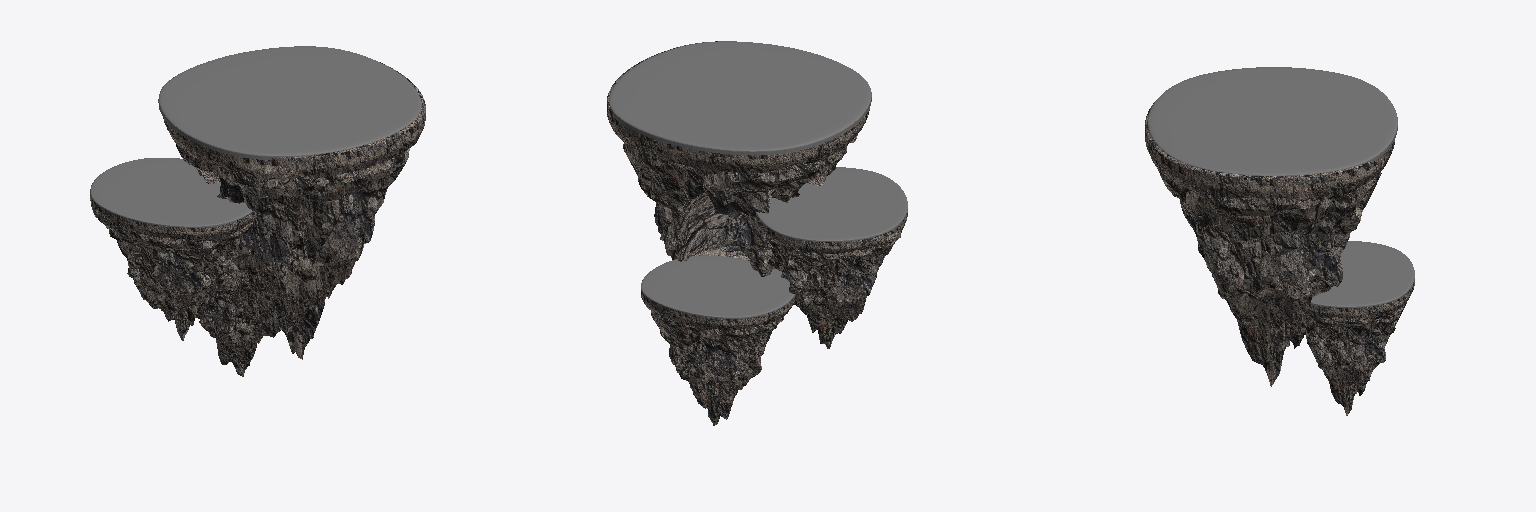
The picture shows the model from 3 angles: view 1: azimuth 30°, elevation 25°; view 2: azimuth 150°, elevation 25°; view 3: azimuth 270°, elevation 25°; orthographic projection.
Visible parts, largest first — view 1: island001, grass001, island003, grass002, island005; view 2: grass001, island001, island005, island003, grass002, grass003; view 3: island001, grass001, island005, grass003.
Part boxes in pixels (bbox=[...]): island001: bbox=[163, 62, 425, 359]; grass001: bbox=[158, 46, 421, 159]; island003: bbox=[90, 195, 255, 340]; grass002: bbox=[90, 158, 253, 227]; island005: bbox=[196, 270, 265, 376]; grass001: bbox=[609, 41, 871, 155]; island001: bbox=[607, 41, 869, 276]; island005: bbox=[641, 291, 794, 425]; island003: bbox=[755, 211, 907, 348]; grass002: bbox=[756, 167, 907, 241]; grass003: bbox=[641, 255, 794, 318]; island001: bbox=[1145, 102, 1394, 386]; grass001: bbox=[1147, 67, 1397, 175]; island005: bbox=[1301, 280, 1414, 415]; grass003: bbox=[1310, 241, 1414, 307].
Size of the model in its own units: 61.24 by 61.08 by 49.6.
6 materials, 1 textured.